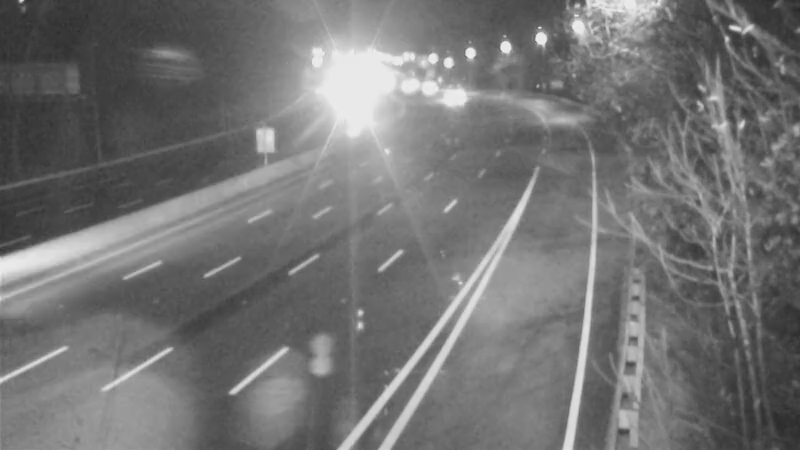vehicle: (401, 65, 451, 115), (427, 71, 477, 121)
